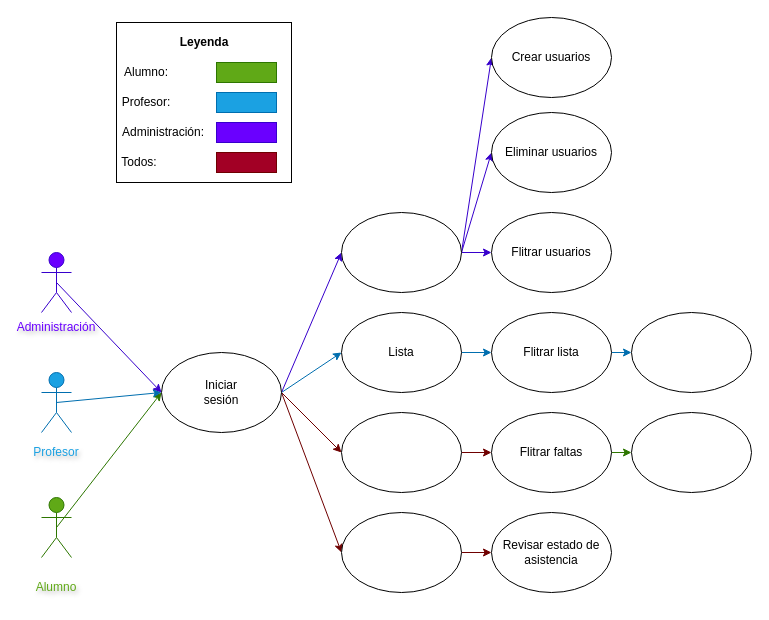
The diagram is 769 pixels wide and 620 high, and some of its shapes have lost their labels. Each missing label, with the box of its shape:
Cambiar estado de asistencia: (630, 312, 752, 392)
Faltas: (340, 412, 462, 492)
Gestion: (340, 212, 462, 292)
Justificar faltas: (630, 412, 752, 492)
Seleccionar dia: (340, 512, 462, 592)
